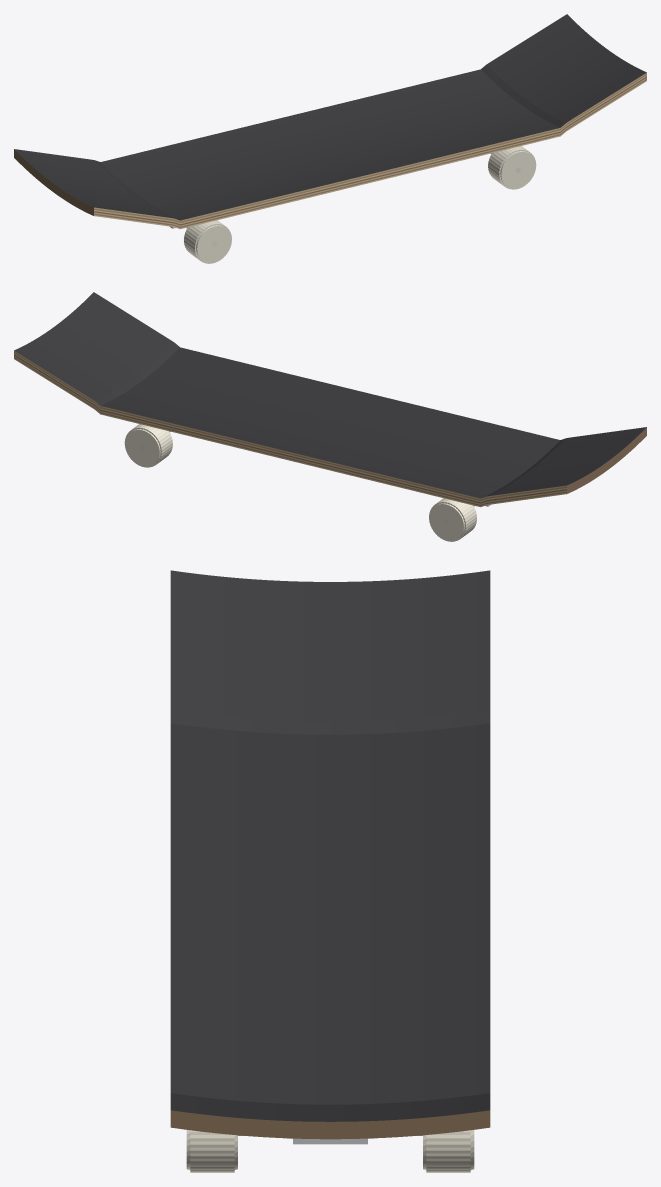
File: skateboard.glb
3 views of the same model, one above another, from view 1: azimuth 30°, elevation 25°; view 2: azimuth 150°, elevation 25°; view 3: azimuth 270°, elevation 25° (orthographic). The views are drawn at different scales.
Parts seen in each view (by area): view 1: deck, wheel_03, wheel_01; view 2: deck, wheel_02, wheel_04; view 3: deck, wheel_01, wheel_02.
Boxes of the visible parts, left/top/right/bottom form: deck: left=14, top=14, right=646, bottom=229; wheel_03: left=184, top=220, right=231, bottom=263; wheel_01: left=488, top=146, right=536, bottom=189; deck: left=14, top=292, right=646, bottom=507; wheel_02: left=124, top=424, right=172, bottom=467; wheel_04: left=429, top=498, right=476, bottom=541; deck: left=170, top=570, right=490, bottom=1139; wheel_01: left=186, top=1130, right=237, bottom=1172; wheel_02: left=423, top=1130, right=474, bottom=1172.
Size of the model in its own units: 0.8 by 0.1241 by 0.2.
